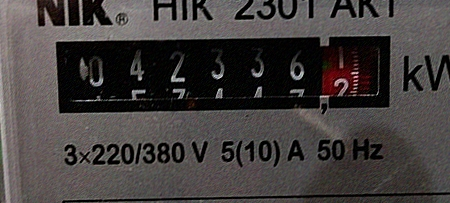0: (84, 52, 105, 87)
1: (332, 41, 346, 70)
2: (165, 47, 186, 83), (330, 75, 349, 96)
3: (206, 43, 226, 81), (244, 43, 265, 79)
4: (125, 44, 145, 82)
6: (283, 45, 306, 81)
screen: (46, 25, 399, 120)
